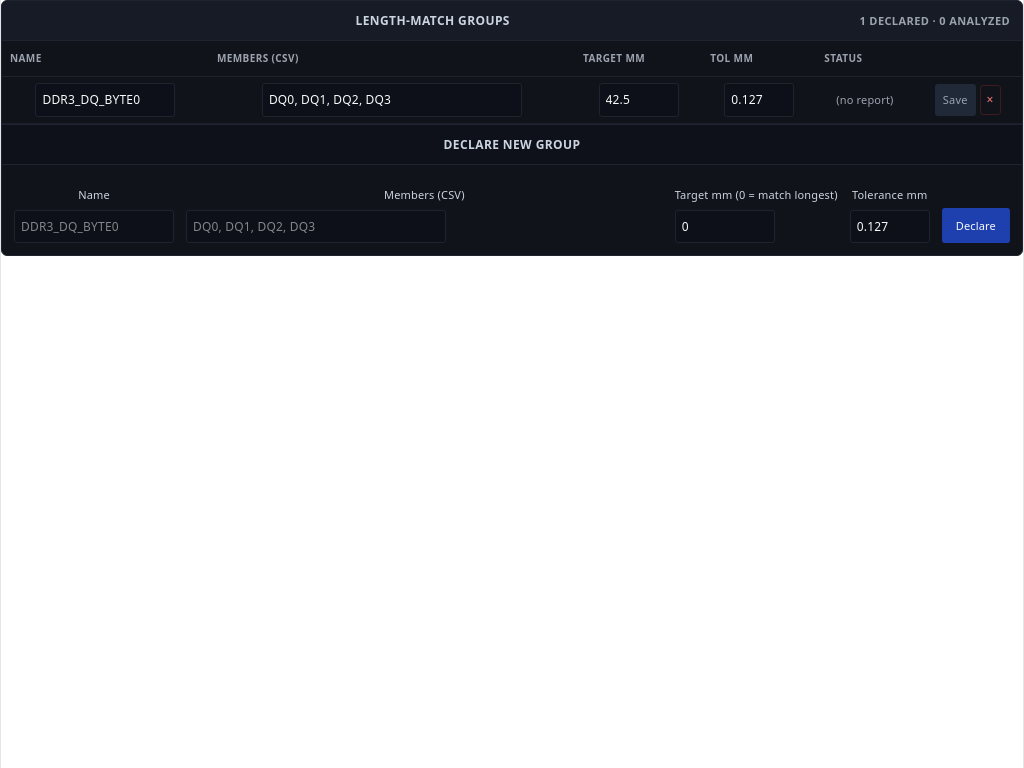
Test: LengthMatchPanel (M3-T-04) › Declare validates name + at least one member locally before POST
The image size is (1024, 768).
Click the button with test id "length-match-declare". click: click(976, 226)
box: [942, 208, 1010, 243]
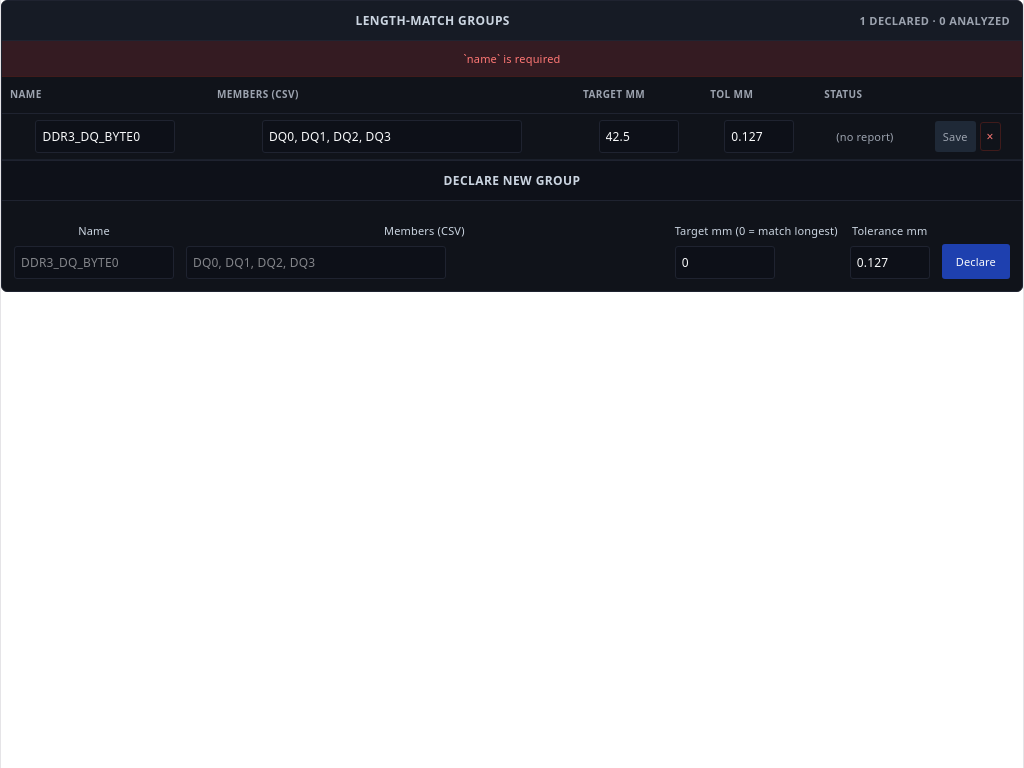
Expected: the text with test id "length-match-error" shows "name", [464, 51, 560, 66]
Type "G" into the field with test id "length-match-new-name". click: (94, 263)
box: [14, 246, 174, 279]
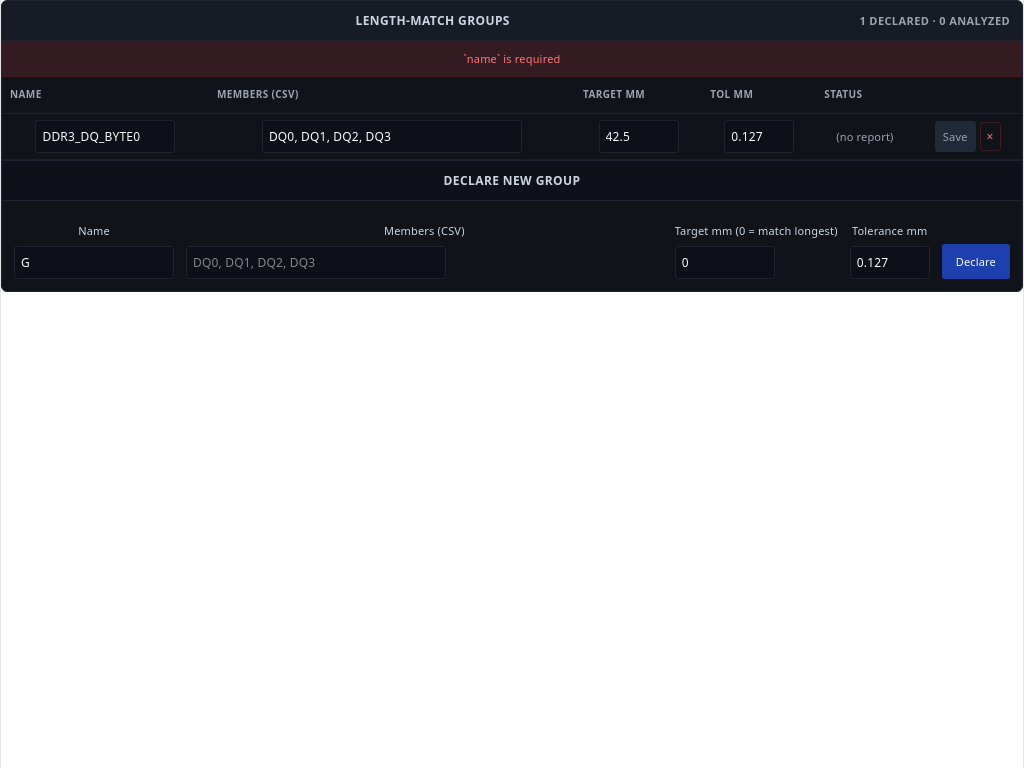
Click the button with test id "length-match-declare". click: click(976, 262)
box: [942, 244, 1010, 279]
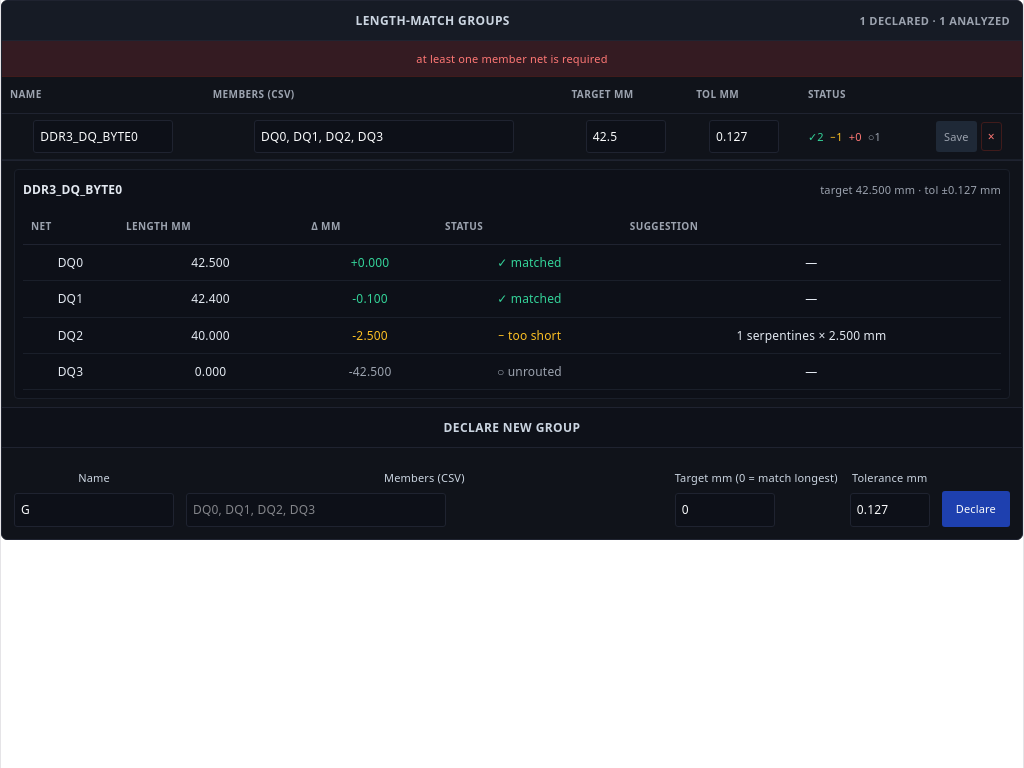
Expected: the text with test id "length-match-error" reads "at least one member net is required", [416, 51, 608, 66]
